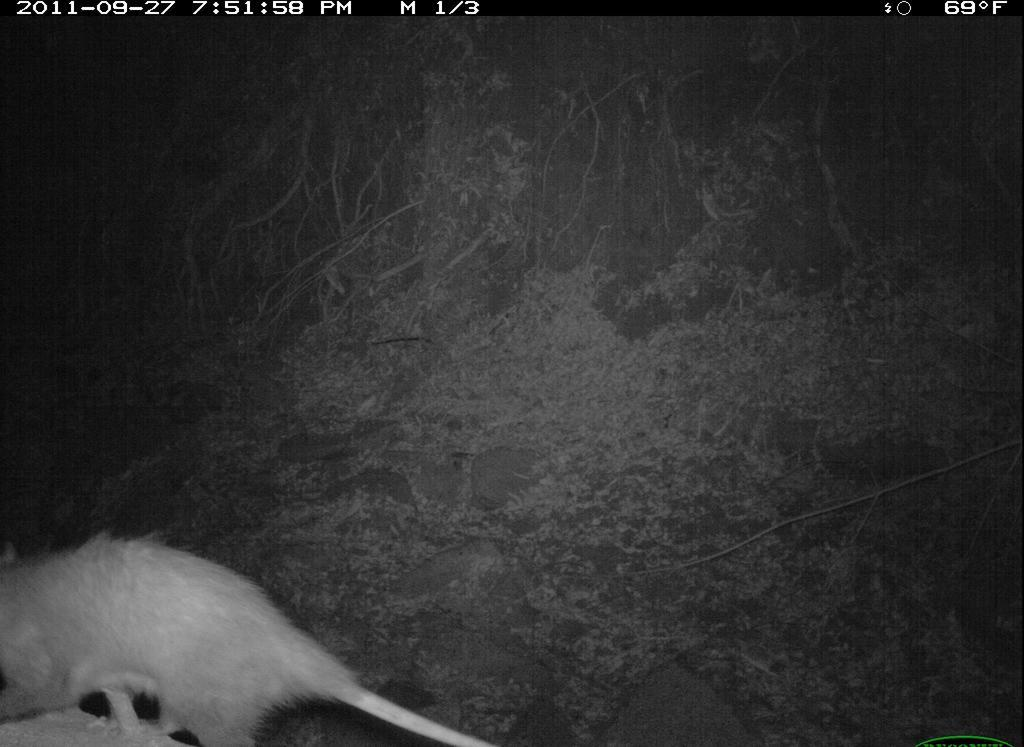opossum: (8, 498, 527, 745)
